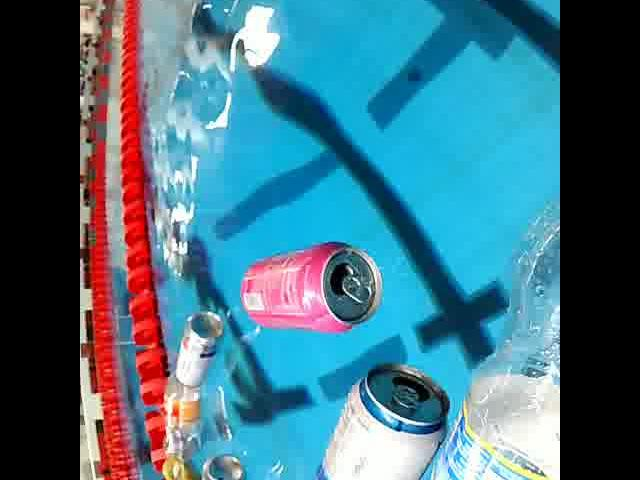Bottle: (416, 188, 560, 480), (160, 368, 206, 464)
Can: (307, 358, 455, 480), (238, 238, 390, 330), (174, 309, 228, 390), (198, 447, 244, 480), (163, 454, 207, 480)
